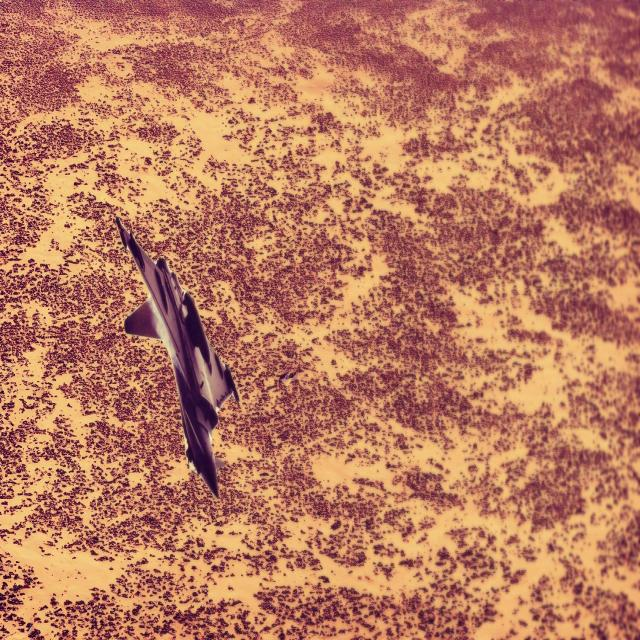airplane: (115, 215, 240, 500)
